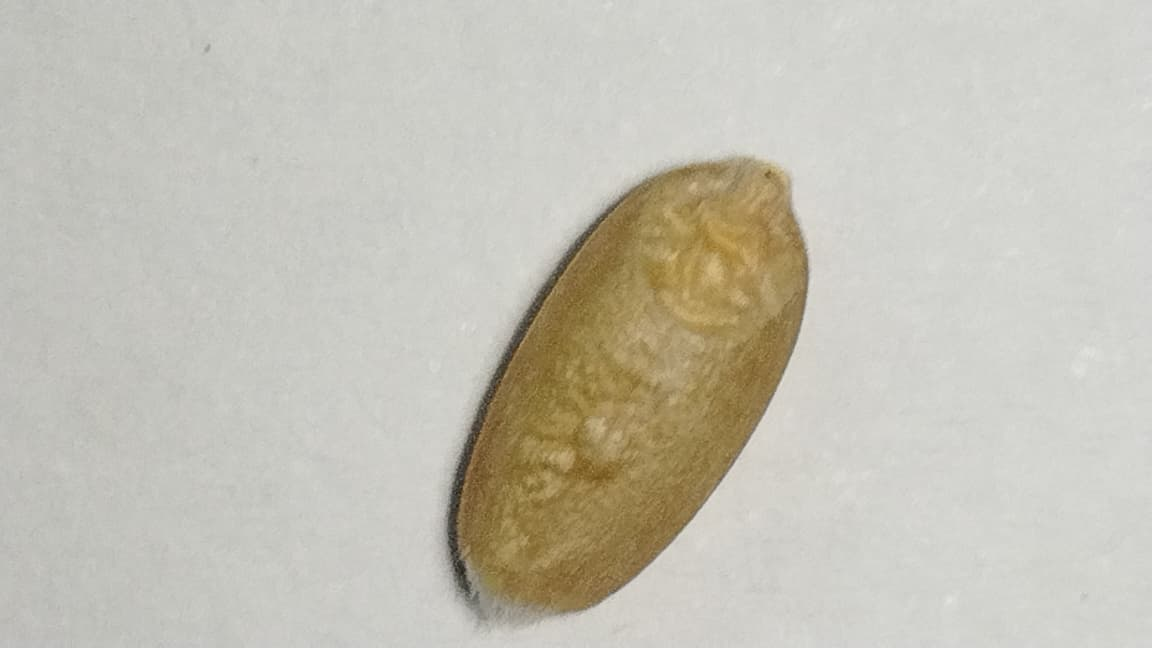healthy: (456, 159, 806, 613)
